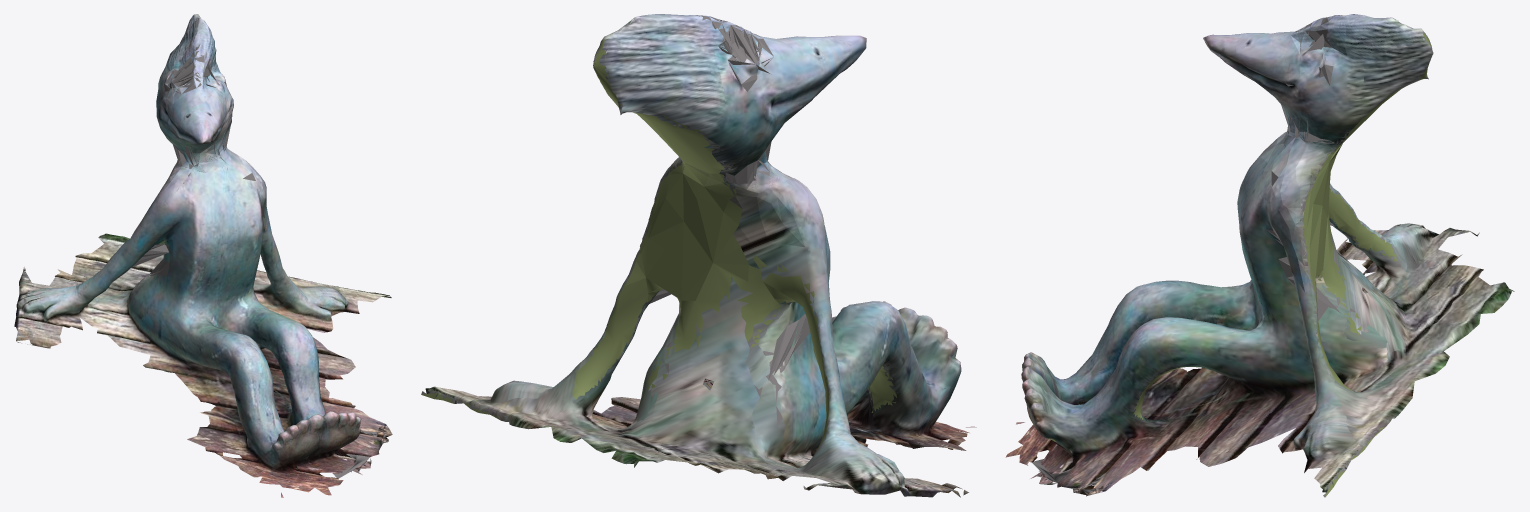
The model's file is geinVogelAni2.obj.
3 views of the same model, side by side, from view 1: azimuth 30°, elevation 25°; view 2: azimuth 150°, elevation 25°; view 3: azimuth 270°, elevation 25° (orthographic). The views are drawn at different scales.
Parts seen in each view (by area): view 1: geinVogel1, kop; view 2: geinVogel1, kop; view 3: geinVogel1, kop.
Boxes of the visible parts, <box> form: geinVogel1: <box>14,147,392,497</box>; kop: <box>156,14,233,168</box>; geinVogel1: <box>421,157,976,497</box>; kop: <box>593,14,866,184</box>; geinVogel1: <box>1005,131,1514,497</box>; kop: <box>1203,14,1433,144</box>.
Size of the model in its own units: 17.89 by 16.97 by 17.31.
Materials: 1 (1 with a texture image).
